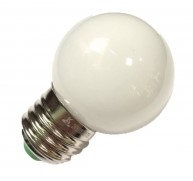Light bulb: (19, 9, 177, 167)
